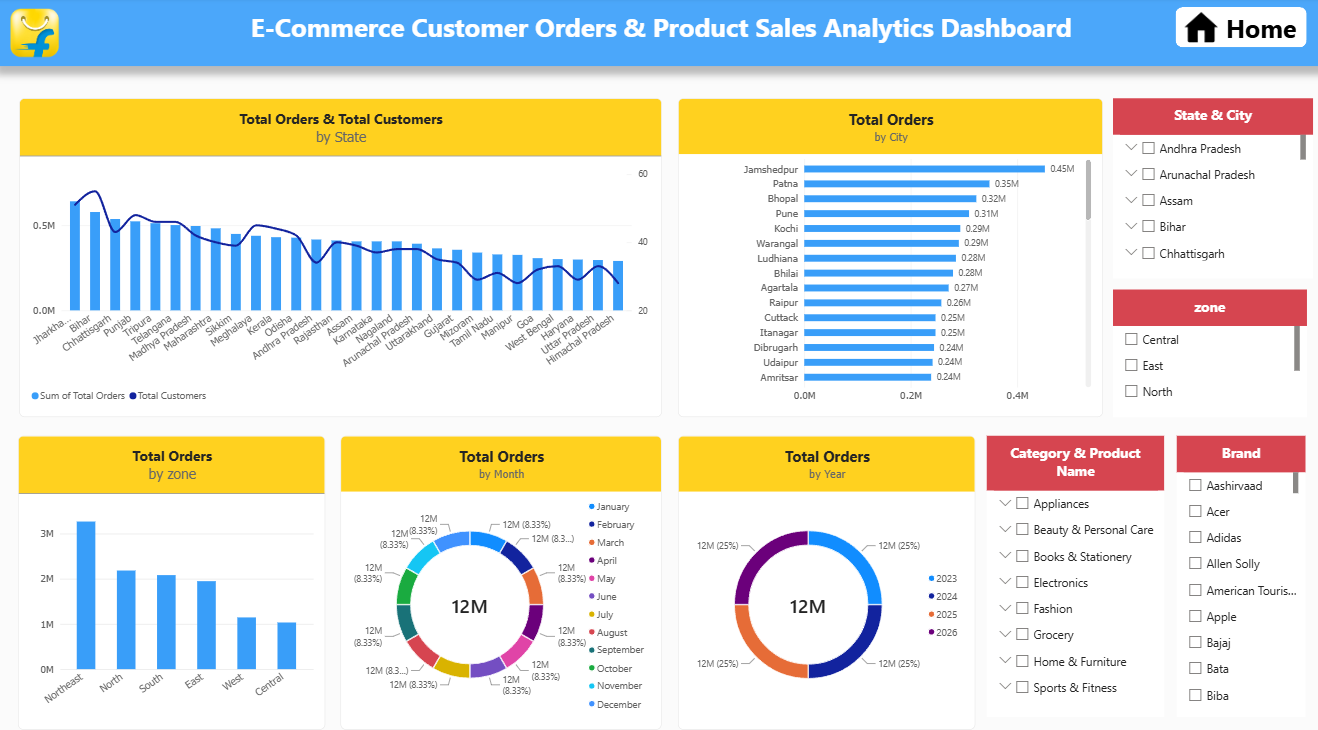

The dashboard page shown, as its layout file describes it:
{"tool":"powerbi","page":{"name":"Executive Dashboard ","canvas":[1920,1080],"ordinal":0},"visuals":[{"type":"textbox","title":"E-Commerce Customer Orders & Product Sales Analytics Dashboard","box":[0,0,1920.4,100],"z":0},{"type":"textbox","box":[0,100.1,110,980.6],"z":1000},{"type":"actionButton","box":[145.6,144.4,381.1,110],"z":2000},{"type":"actionButton","box":[442.8,168.3,67.2,64.4],"z":3000},{"type":"tableEx","fields":{"Values":["Dim Customer.Signup Date","Dim Customer.Phone NO","Dim Customer.Email","Dim Customer.Customer Name","Dim Customer.Gender","Dim Customer.Country","Dim Customer.State","Dim Customer.City","Dim Customer.Pincode","Dim Customer.Zone","Dim Customer.Membership Type","Dim Customer.Customer ID"]},"box":[132.1,269.6,1711.9,789],"z":4000},{"type":"actionButton","box":[560,144,381.1,110],"z":5000},{"type":"actionButton","box":[956.7,143.3,381.1,110],"z":6000},{"type":"actionButton","box":[1370,143.3,381.1,110],"z":7000},{"type":"actionButton","box":[851.7,168.9,72.8,63.3],"z":8000},{"type":"actionButton","box":[1255.6,168.3,67.2,61.1],"z":9000},{"type":"actionButton","box":[1662.2,168.9,73.9,60.6],"z":10000},{"type":"image","box":[163.8,167.5,75.7,64.3],"z":11000},{"type":"image","box":[581.1,170,75.6,60],"z":12000},{"type":"image","box":[972.7,161.8,80.9,70],"z":13000},{"type":"image","box":[1405.5,166.4,59.1,65.5],"z":14000},{"type":"image","box":[0,0,110,100],"z":65000},{"type":"shape","box":[1808.9,15.6,70,70],"z":66000}]}

Visuals, with their boxes in screenshot pixels (x1, y1, x2, y2), scaled from the page's 1920x1080 canvas onto the 1318x730 screenshot:
"E-Commerce Customer Orders & Product Sales Analytics Dashboard" textbox: bbox=(0, 0, 1317, 68)
textbox: bbox=(0, 68, 76, 729)
actionButton: bbox=(100, 98, 362, 172)
actionButton: bbox=(304, 114, 350, 157)
tableEx - Dim Customer.Signup Date x Dim Customer.Phone NO: bbox=(91, 182, 1266, 716)
actionButton: bbox=(384, 97, 646, 172)
actionButton: bbox=(657, 97, 918, 171)
actionButton: bbox=(940, 97, 1202, 171)
actionButton: bbox=(585, 114, 635, 157)
actionButton: bbox=(862, 114, 908, 155)
actionButton: bbox=(1141, 114, 1192, 155)
image: bbox=(112, 113, 164, 157)
image: bbox=(399, 115, 451, 155)
image: bbox=(668, 109, 723, 157)
image: bbox=(965, 112, 1005, 157)
image: bbox=(0, 0, 76, 68)
shape: bbox=(1242, 11, 1290, 58)
